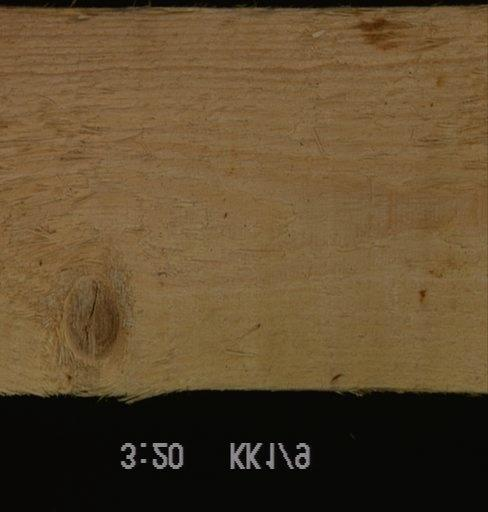sound_knot: (52, 257, 126, 393)
